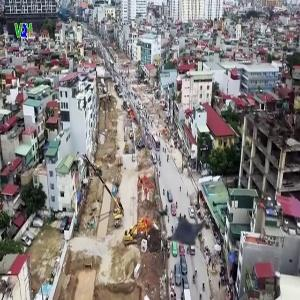drone: (146, 178, 245, 277)
